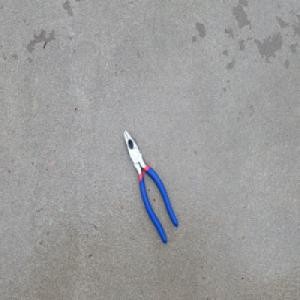Pliers: (122, 128, 179, 246)
